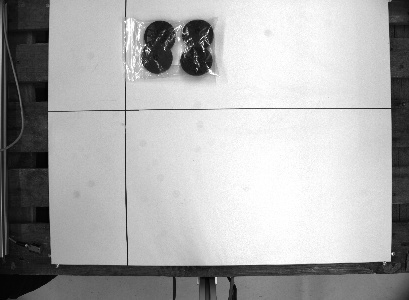t1: (120, 14, 223, 81)
